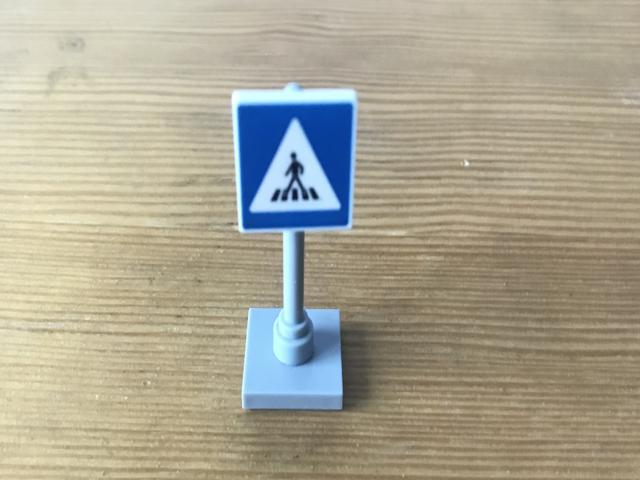fußgängerüberweg: (236, 95, 360, 233)
